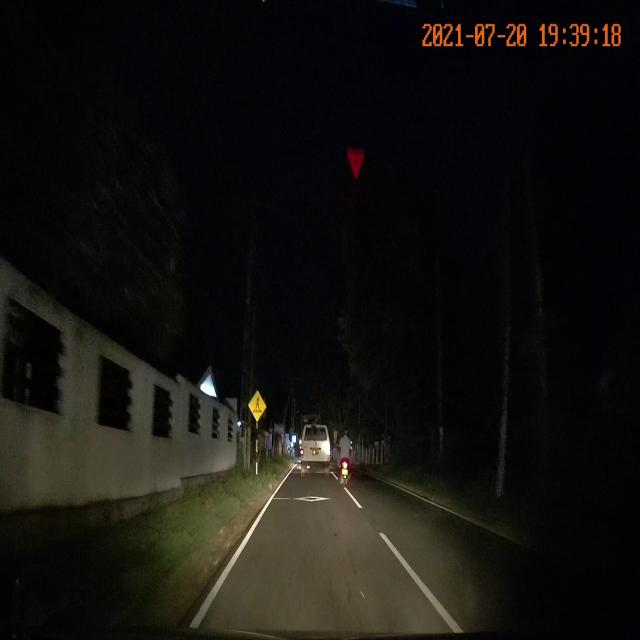diamond: (260, 488, 364, 507)
